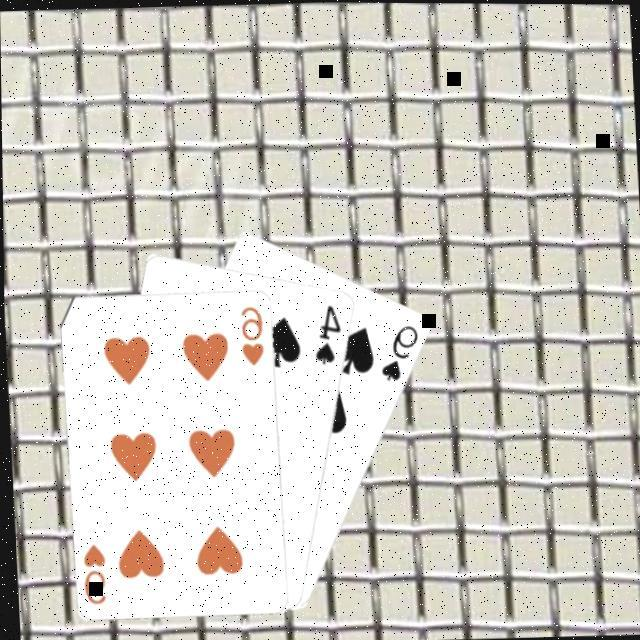4S: (310, 299, 347, 366)
6H: (79, 538, 110, 606), (238, 300, 269, 367)
9S: (376, 320, 424, 384)
